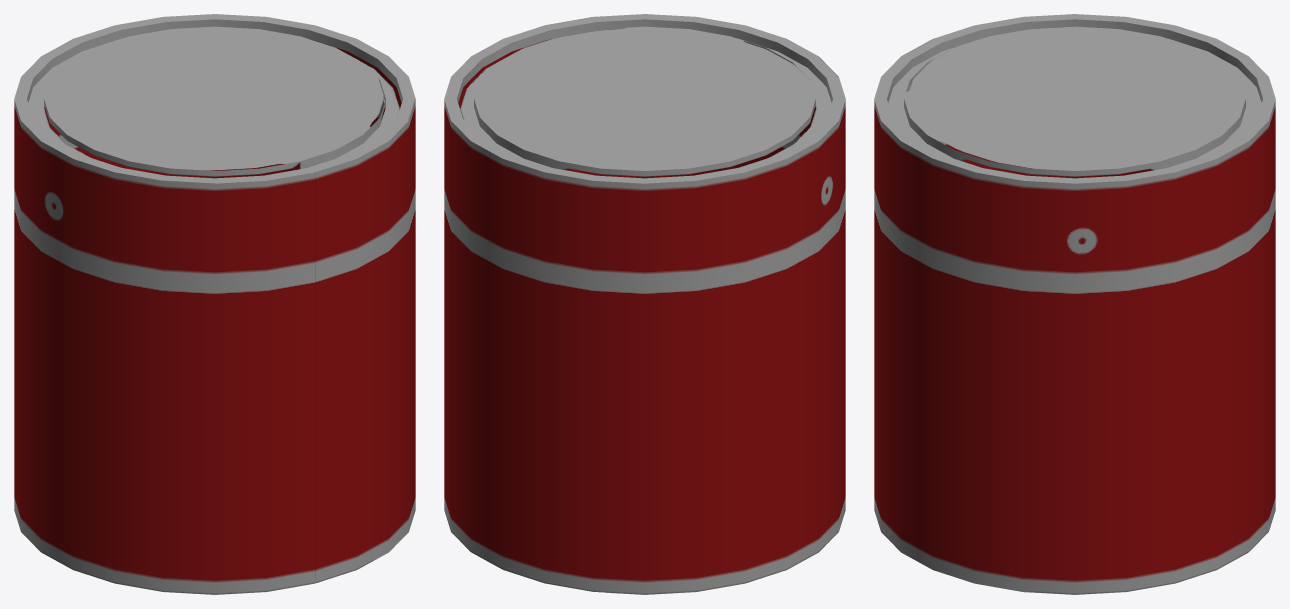
File: secchio.fbx
3 renders of one model, left to right at view 1: azimuth 30°, elevation 25°; view 2: azimuth 150°, elevation 25°; view 3: azimuth 270°, elevation 25°, orthographic.
Parts seen in each view (by area): view 1: bucket_low; view 2: bucket_low; view 3: bucket_low.
Part boxes in pixels (x1,y1,x2,y2): bucket_low: [14, 14, 415, 594]; bucket_low: [444, 14, 845, 594]; bucket_low: [874, 14, 1275, 594].
Bounding box in the file's own units: 30.97 × 35 × 30.97.
